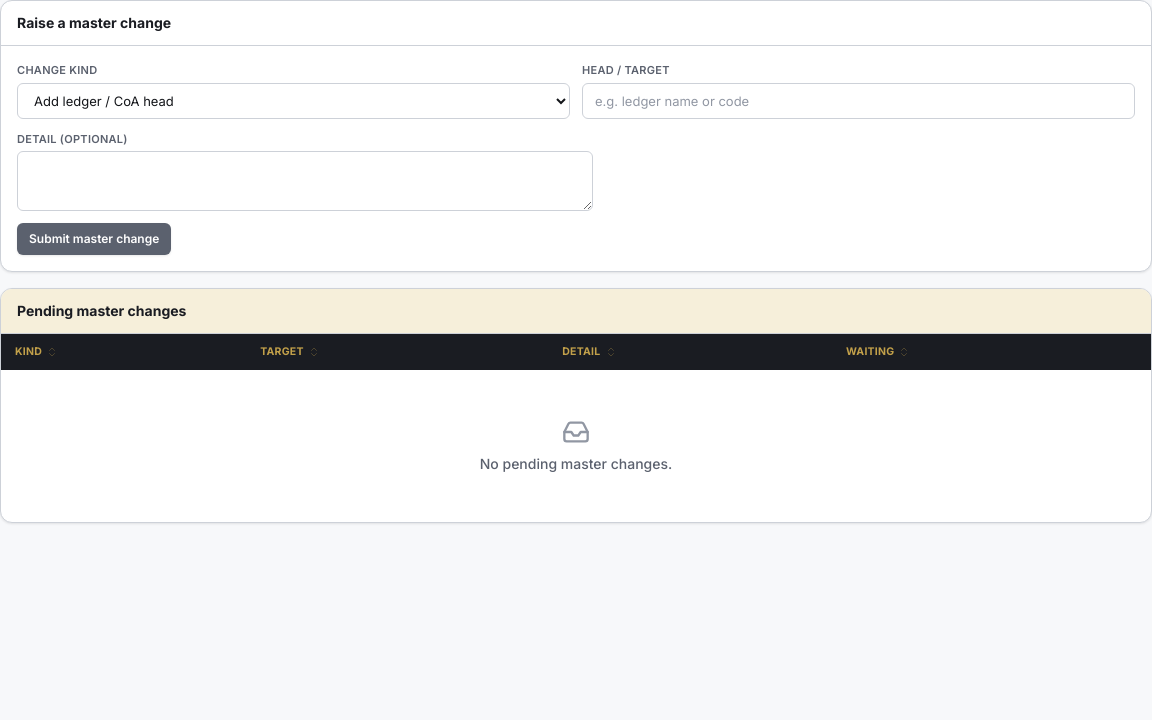
it: MasterControl container › files a master change-request on submit
The width and height of the screenshot is (1152, 720).
In the field named "Head or target": (858,100) x1=582 y1=82 x2=1135 y2=118, type "ICICI 1234"
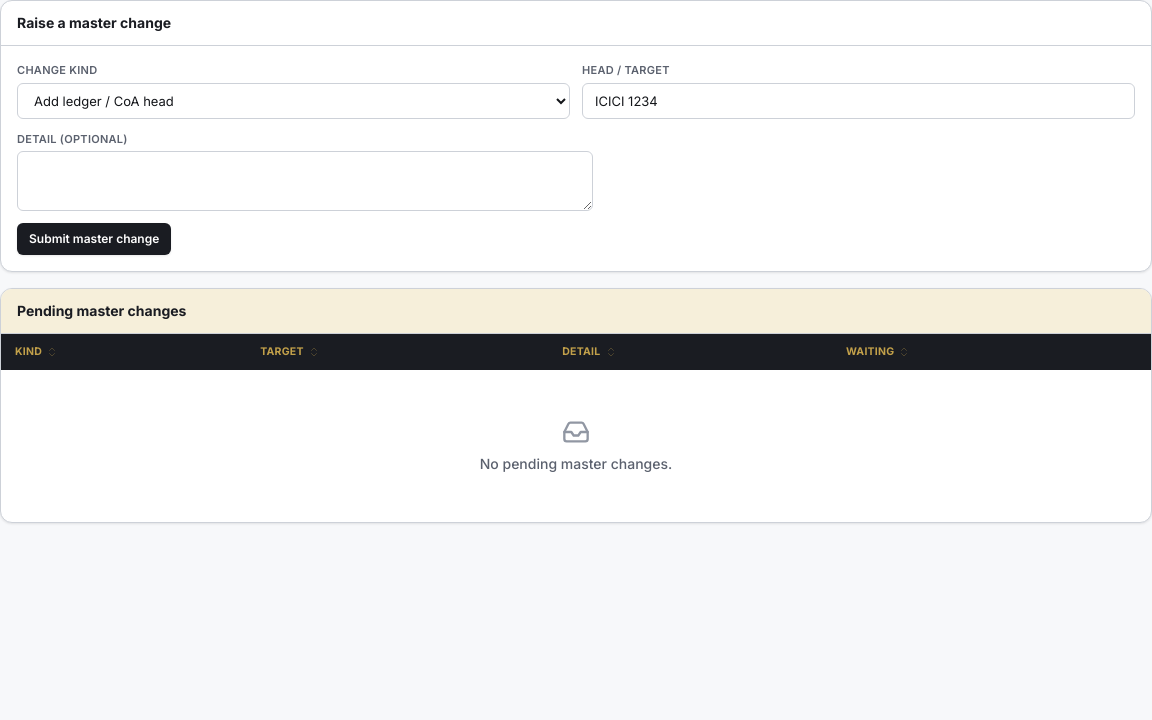
Click the button "Submit master change": (94,239) x1=17 y1=223 x2=171 y2=255
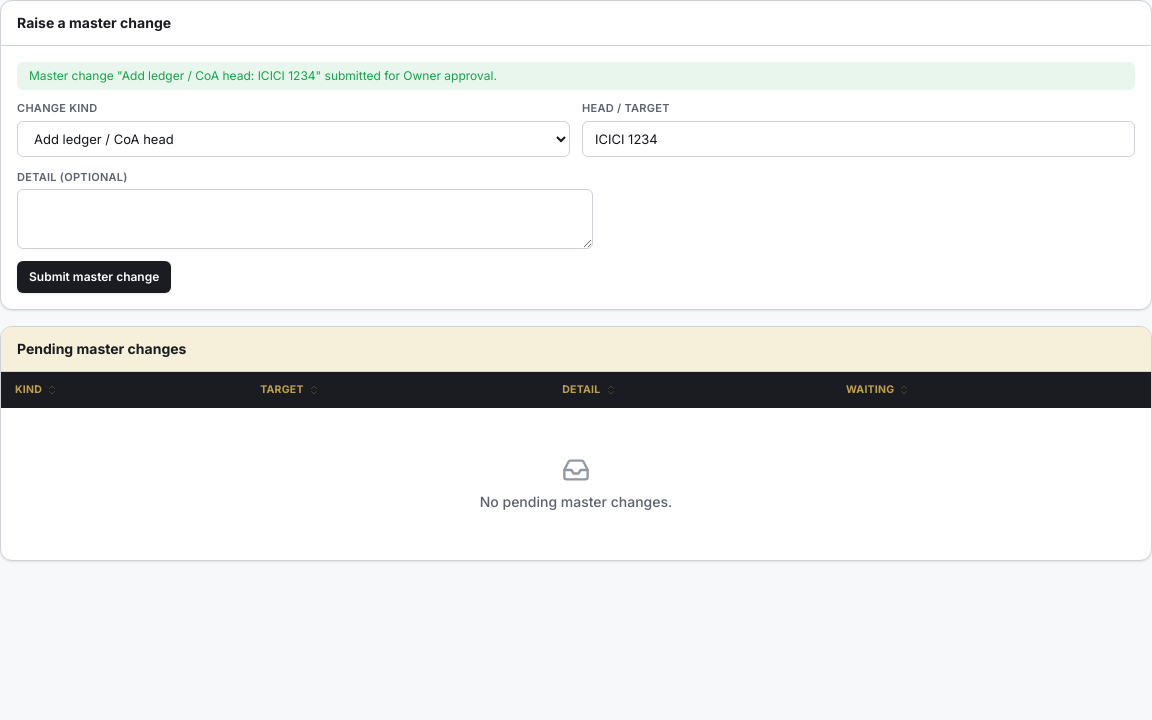
Expected: the message shows "Owner approval", x1=29 y1=68 x2=497 y2=83
